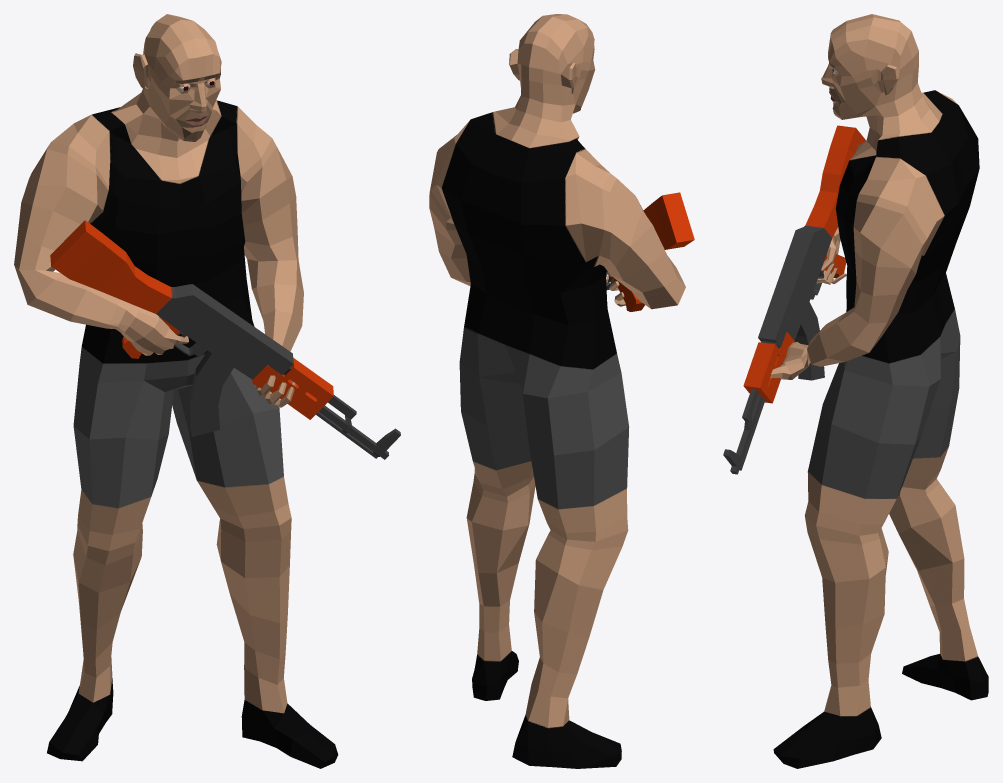
File: PlayerIdle(222).obj
The picture shows the model from 3 angles, left to right: view 1: azimuth 30°, elevation 25°; view 2: azimuth 150°, elevation 25°; view 3: azimuth 270°, elevation 25°; orthographic projection. The views are drawn at different scales.
Parts seen in each view (by area): view 1: Plane002, Object001; view 2: Plane002, Object001; view 3: Plane002, Object001.
Boxes of the visible parts, x1,y1,x2,y2 form: Plane002: (14, 14, 338, 768); Object001: (50, 220, 400, 459); Plane002: (429, 14, 685, 768); Object001: (606, 192, 694, 311); Plane002: (770, 14, 988, 768); Object001: (723, 125, 866, 474).
Bounding box in the file's own units: 744 × 1802 × 622.
